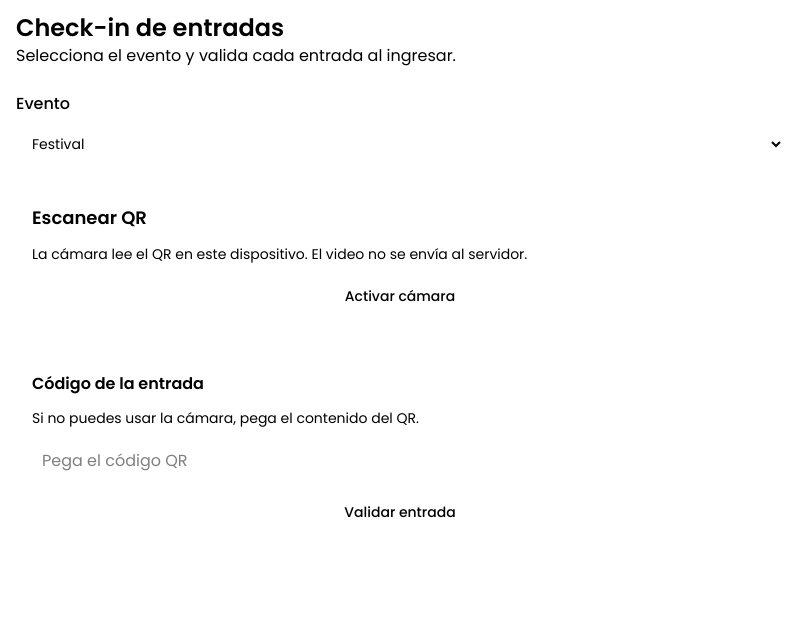
Test: Check-in con QR › con cámara denegada mantiene disponible la validación manual
Click the button "Activar cámara" at {"x": 400, "y": 296}, box [32, 276, 768, 316]
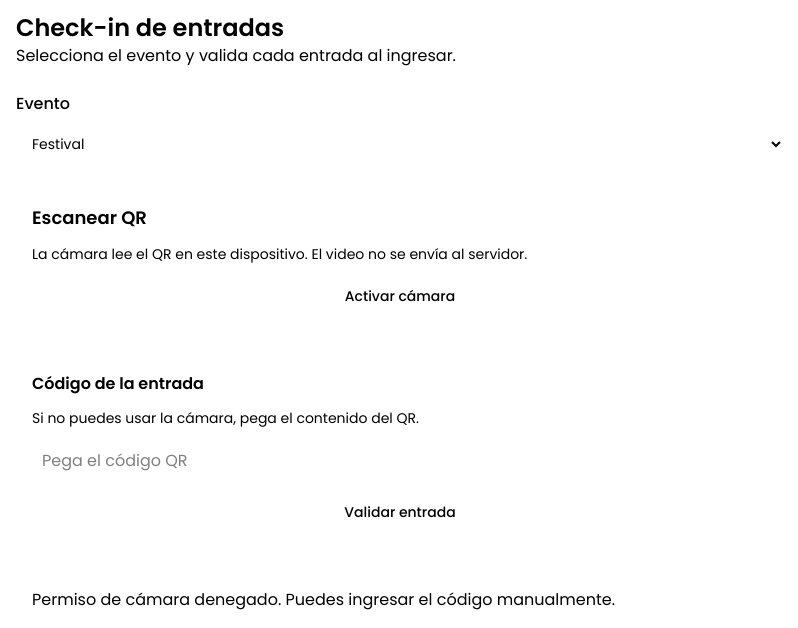
Expected: the field labelled "Código de la entrada" is enabled, [32, 440, 768, 480]
Expected: the message shows "Permiso de cámara denegado", [32, 588, 615, 611]
